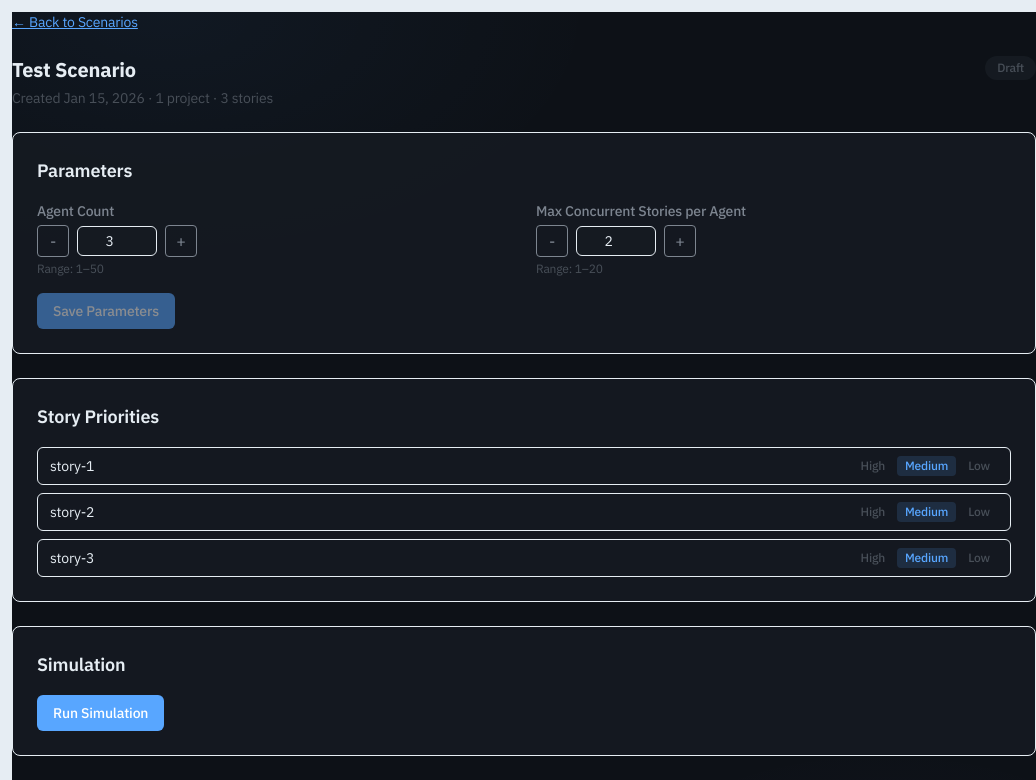
Test: ScenarioDetail › shows simulation error on API failure
Click the button "Run Simulation": coordinates (101, 713) 37,695 -> 164,731
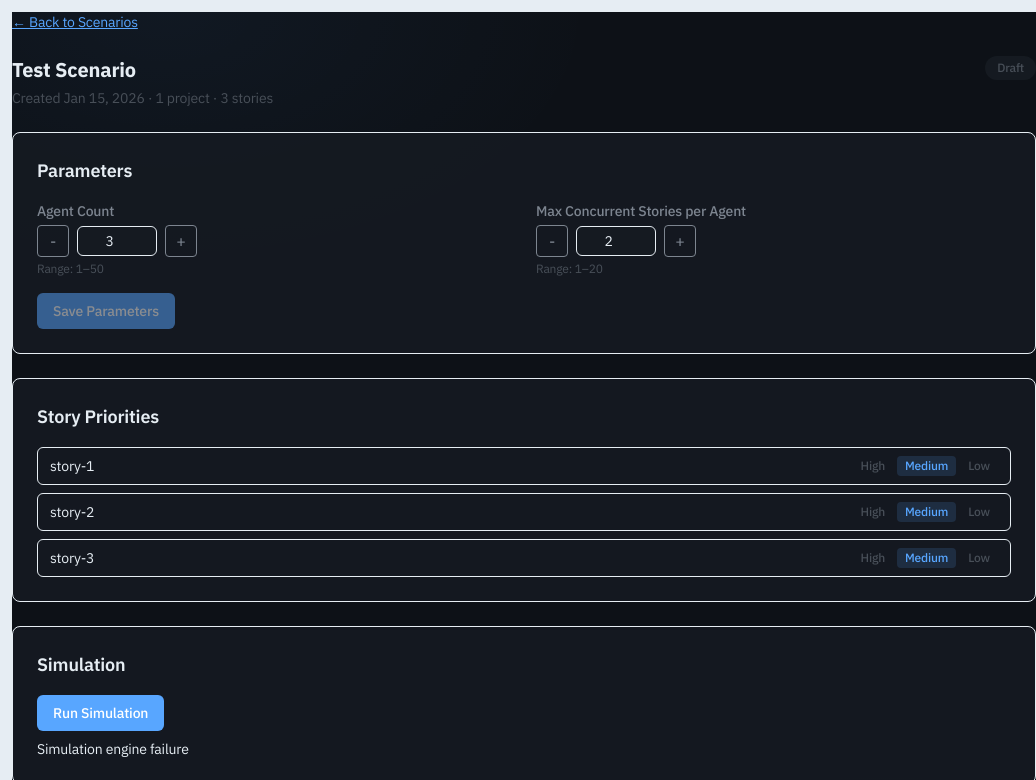
expect the text "Simulation engine failure" is shown: met, box 37,740 -> 189,758
